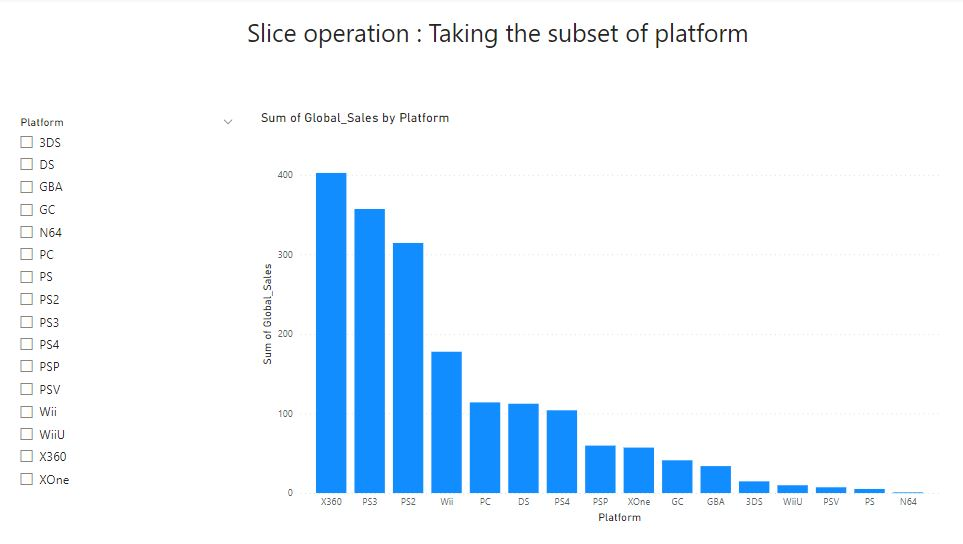

Layout of this report page (visuals, bound fields, positions):
{"tool":"powerbi","page":{"name":"Slice","canvas":[1280,720],"ordinal":0},"visuals":[{"type":"textbox","box":[316.1,19.4,861.1,101.6],"z":1000},{"type":"slicer","fields":{"Values":["Sheet1.Platform"]},"box":[16.1,148.4,299.9,504.7],"z":1001},{"type":"clusteredColumnChart","fields":{"Category":["Sheet1.Platform"],"Y":["Sum(Sheet1.Global_Sales)"]},"box":[333.8,145.1,885.3,538.6],"z":1002}]}

Visuals, with their boxes on the page's 1280x720 design canvas (x1, y1, x2, y2). These are canvas units, not pixel positions in the 963x544 screenshot, which may show the page scaled, cropped or inside an application window:
textbox: {"x1": 316, "y1": 19, "x2": 1177, "y2": 121}
slicer - Sheet1.Platform: {"x1": 16, "y1": 148, "x2": 316, "y2": 653}
clusteredColumnChart - Sheet1.Platform x Sum(Sheet1.Global_Sales): {"x1": 334, "y1": 145, "x2": 1219, "y2": 684}
